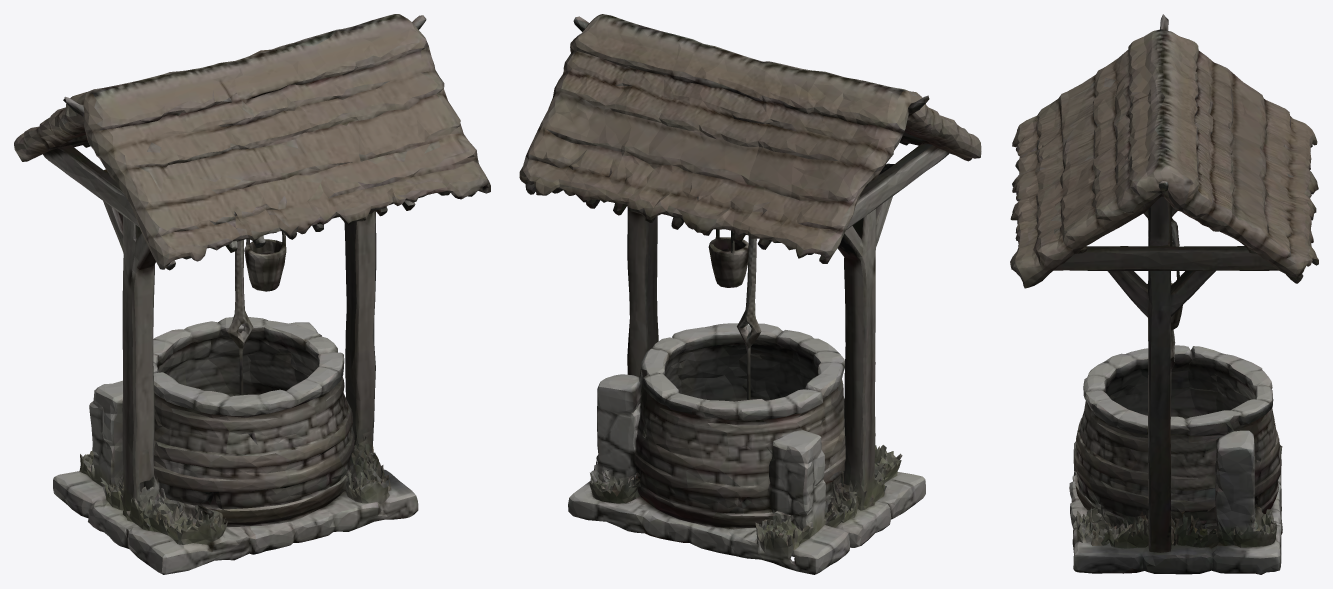
File: war_well_01.glb
3 renders of one model, left to right at view 1: azimuth 30°, elevation 25°; view 2: azimuth 150°, elevation 25°; view 3: azimuth 270°, elevation 25°, orthographic. The views are drawn at different scales.
Visible parts, largest first — view 1: geometry_0; view 2: geometry_0; view 3: geometry_0.
Part boxes in pixels (bbox=[...]): geometry_0: bbox=[14, 14, 490, 574]; geometry_0: bbox=[519, 14, 981, 574]; geometry_0: bbox=[1010, 14, 1318, 574].
Size of the model in its own units: 0.8218 by 1 by 0.66.
Materials: 1 (1 with a texture image).
